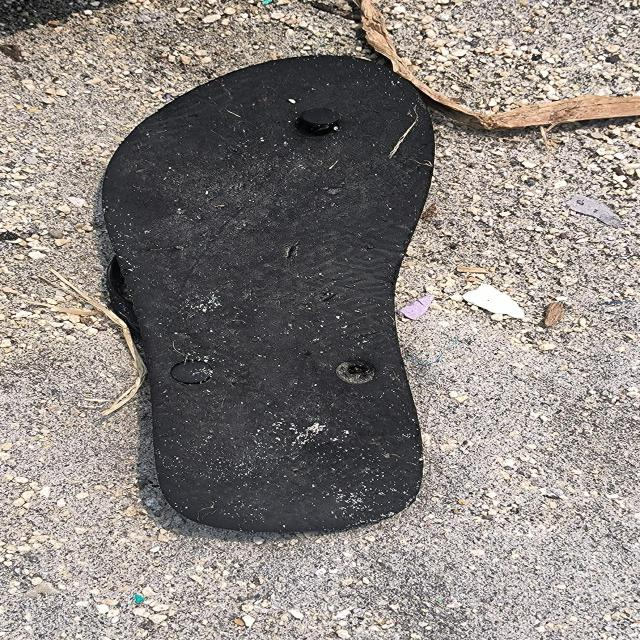rubber_waste: (102, 56, 438, 535)
